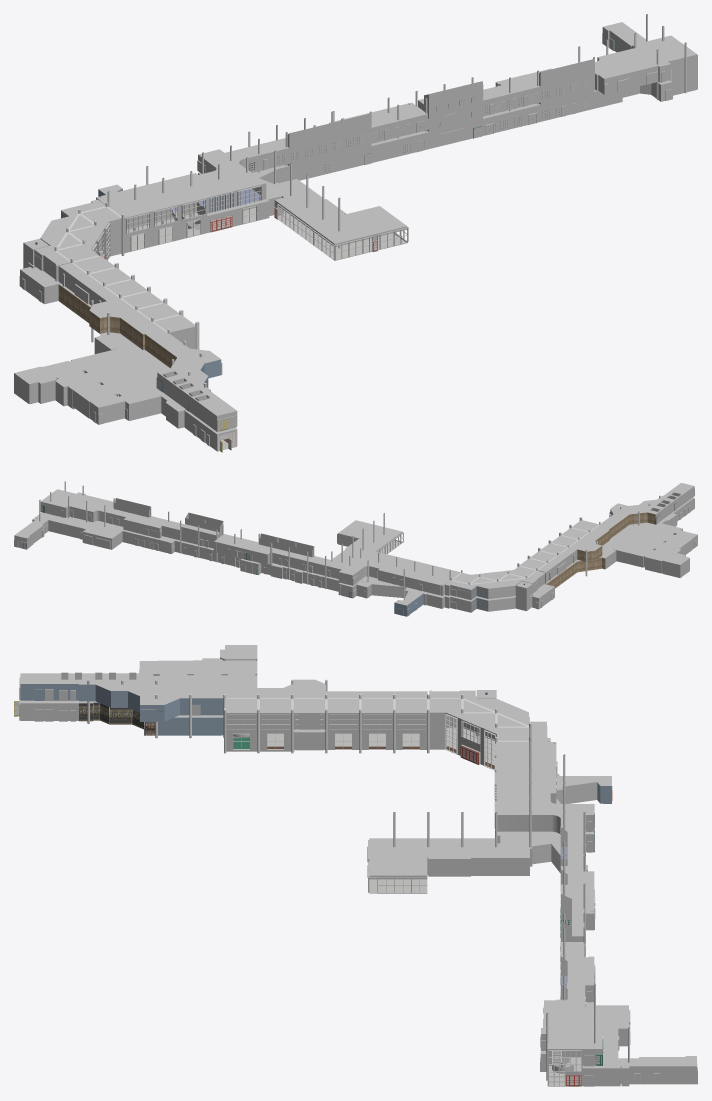
The model's file is KoontiFinal4.fbx.
The picture shows the model from 3 angles, top to bottom: view 1: azimuth 30°, elevation 25°; view 2: azimuth 150°, elevation 25°; view 3: azimuth 270°, elevation 25°; orthographic projection. The views are drawn at different scales.
Visible parts, largest first — view 1: 2nd_storey_NS, Plane, 2nd_storey_S, 2storey_N, Plane.001, Pohjoinenkeittio_1, 2nd_storey_SN, Plane.004, Circle.002, Plane.005, Pohjoinenkeittio_2, Pilarit (+2 smaller); view 2: 2nd_storey_NS, Plane, 2nd_storey_S, 2storey_N, Plane.001, Pohjoinenkeittio_1, 2nd_storey_SN, Plane.004, Circle.002, Plane.005, Pohjoinenkeittio_2, Plane.012 (+3 smaller); view 3: 2nd_storey_S, Plane, 2nd_storey_NS, 2storey_N, Plane.001, Plane.004, 2nd_storey_SN, Pohjoinenkeittio_1, Circle.002, Pilarit, Plane.005, Pohjoinen_Aula1 (+2 smaller).
Part boxes in pixels (bbox=[...]): 2nd_storey_NS: bbox=[96, 102, 428, 235]; Plane: bbox=[98, 140, 408, 260]; 2nd_storey_S: bbox=[58, 256, 237, 431]; 2storey_N: bbox=[418, 35, 697, 130]; Plane.001: bbox=[387, 22, 697, 158]; Pohjoinenkeittio_1: bbox=[43, 352, 185, 428]; 2nd_storey_SN: bbox=[34, 199, 121, 281]; Plane.004: bbox=[58, 283, 195, 430]; Circle.002: bbox=[107, 14, 686, 248]; Plane.005: bbox=[19, 236, 121, 304]; Pohjoinenkeittio_2: bbox=[14, 366, 56, 404]; Pilarit: bbox=[54, 202, 206, 387]; 2nd_storey_NS: bbox=[214, 533, 460, 595]; Plane: bbox=[240, 520, 445, 616]; 2nd_storey_S: bbox=[520, 483, 694, 581]; 2storey_N: bbox=[40, 489, 223, 548]; Plane.001: bbox=[14, 512, 241, 567]; Pohjoinenkeittio_1: bbox=[622, 513, 697, 573]; 2nd_storey_SN: bbox=[445, 566, 546, 599]; Plane.004: bbox=[545, 510, 676, 588]; Circle.002: bbox=[39, 481, 450, 600]; Plane.005: bbox=[445, 584, 554, 612]; Pohjoinenkeittio_2: bbox=[662, 553, 689, 577]; Plane.012: bbox=[516, 581, 532, 610]; 2nd_storey_S: bbox=[19, 672, 427, 731]; Plane: bbox=[367, 761, 612, 929]; 2nd_storey_NS: bbox=[494, 741, 594, 930]; 2storey_N: bbox=[540, 894, 602, 1067]; Plane.001: bbox=[540, 944, 697, 1086]; Plane.004: bbox=[77, 700, 426, 751]; 2nd_storey_SN: bbox=[428, 690, 550, 747]; Pohjoinenkeittio_1: bbox=[139, 658, 257, 688]; Circle.002: bbox=[393, 726, 629, 1080]; Pilarit: bbox=[87, 679, 531, 753]; Plane.005: bbox=[429, 727, 494, 769]; Pohjoinen_Aula1: bbox=[19, 700, 77, 721].
Size of what is drawn, in the model's own units: 177 by 11.7 by 121.
